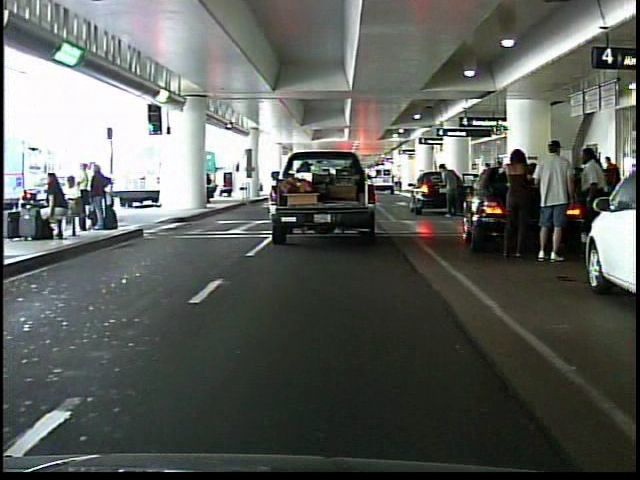person: (575, 141, 617, 275), (492, 137, 534, 268), (533, 137, 576, 263), (439, 159, 463, 226)
